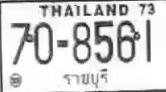0: (33, 22, 54, 65)
1: (145, 18, 151, 62), (145, 18, 150, 62)
5: (94, 19, 113, 62)
6: (116, 19, 137, 62)
7: (9, 21, 32, 64)
8: (72, 21, 90, 63)
RBR: (61, 68, 110, 89)
